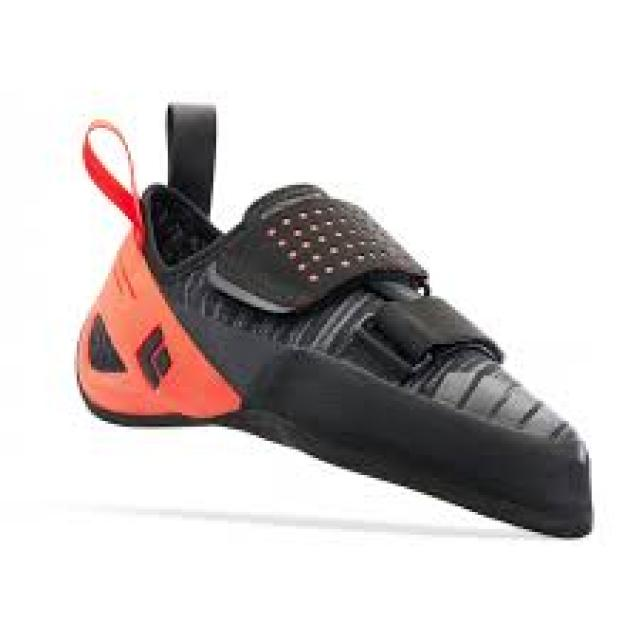climbing-shoes: (81, 103, 596, 539)
